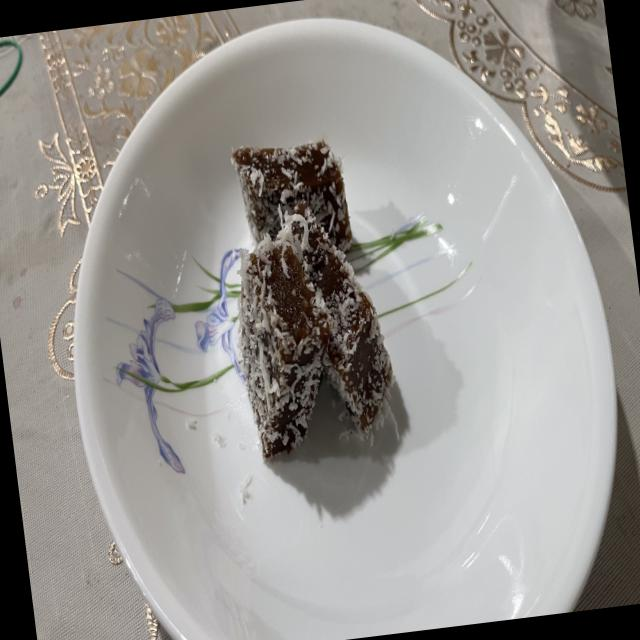kaswi: (285, 204, 393, 435), (238, 235, 332, 459), (231, 138, 352, 250)
